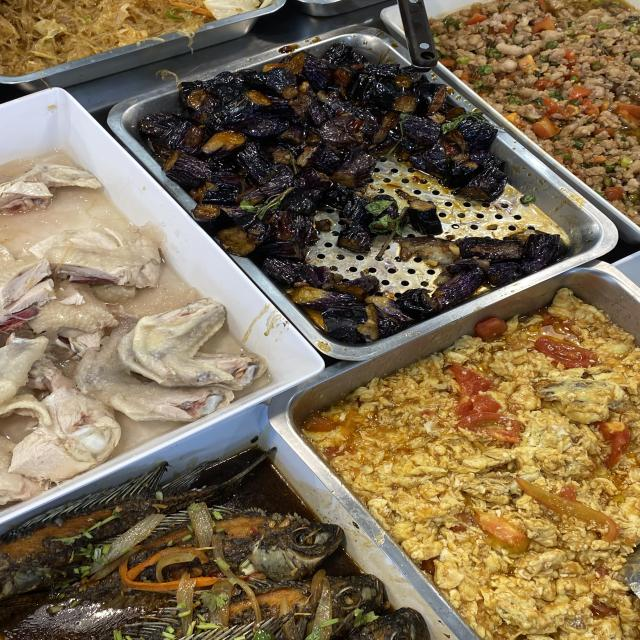Scramble Egg with Tomatoes: (396, 379, 630, 531)
eggplant: (192, 85, 354, 188)
